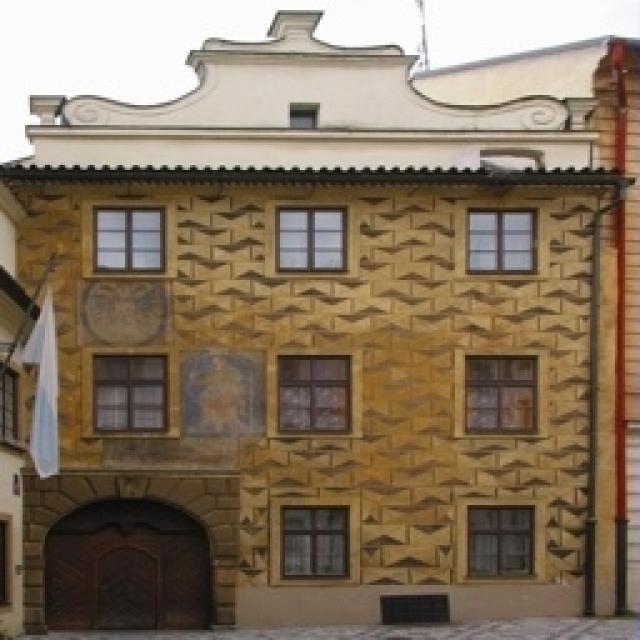Window: (92, 358, 166, 430), (280, 358, 350, 430), (467, 360, 535, 432), (284, 510, 348, 578), (470, 507, 532, 575), (97, 212, 165, 270), (470, 212, 532, 270), (280, 212, 342, 268), (292, 110, 312, 125)
